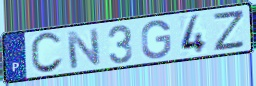3: (107, 24, 133, 65)
4: (179, 12, 209, 56)
C: (29, 31, 66, 76)
G: (140, 19, 173, 61)
N: (64, 27, 103, 71)
Z: (212, 8, 246, 53)
